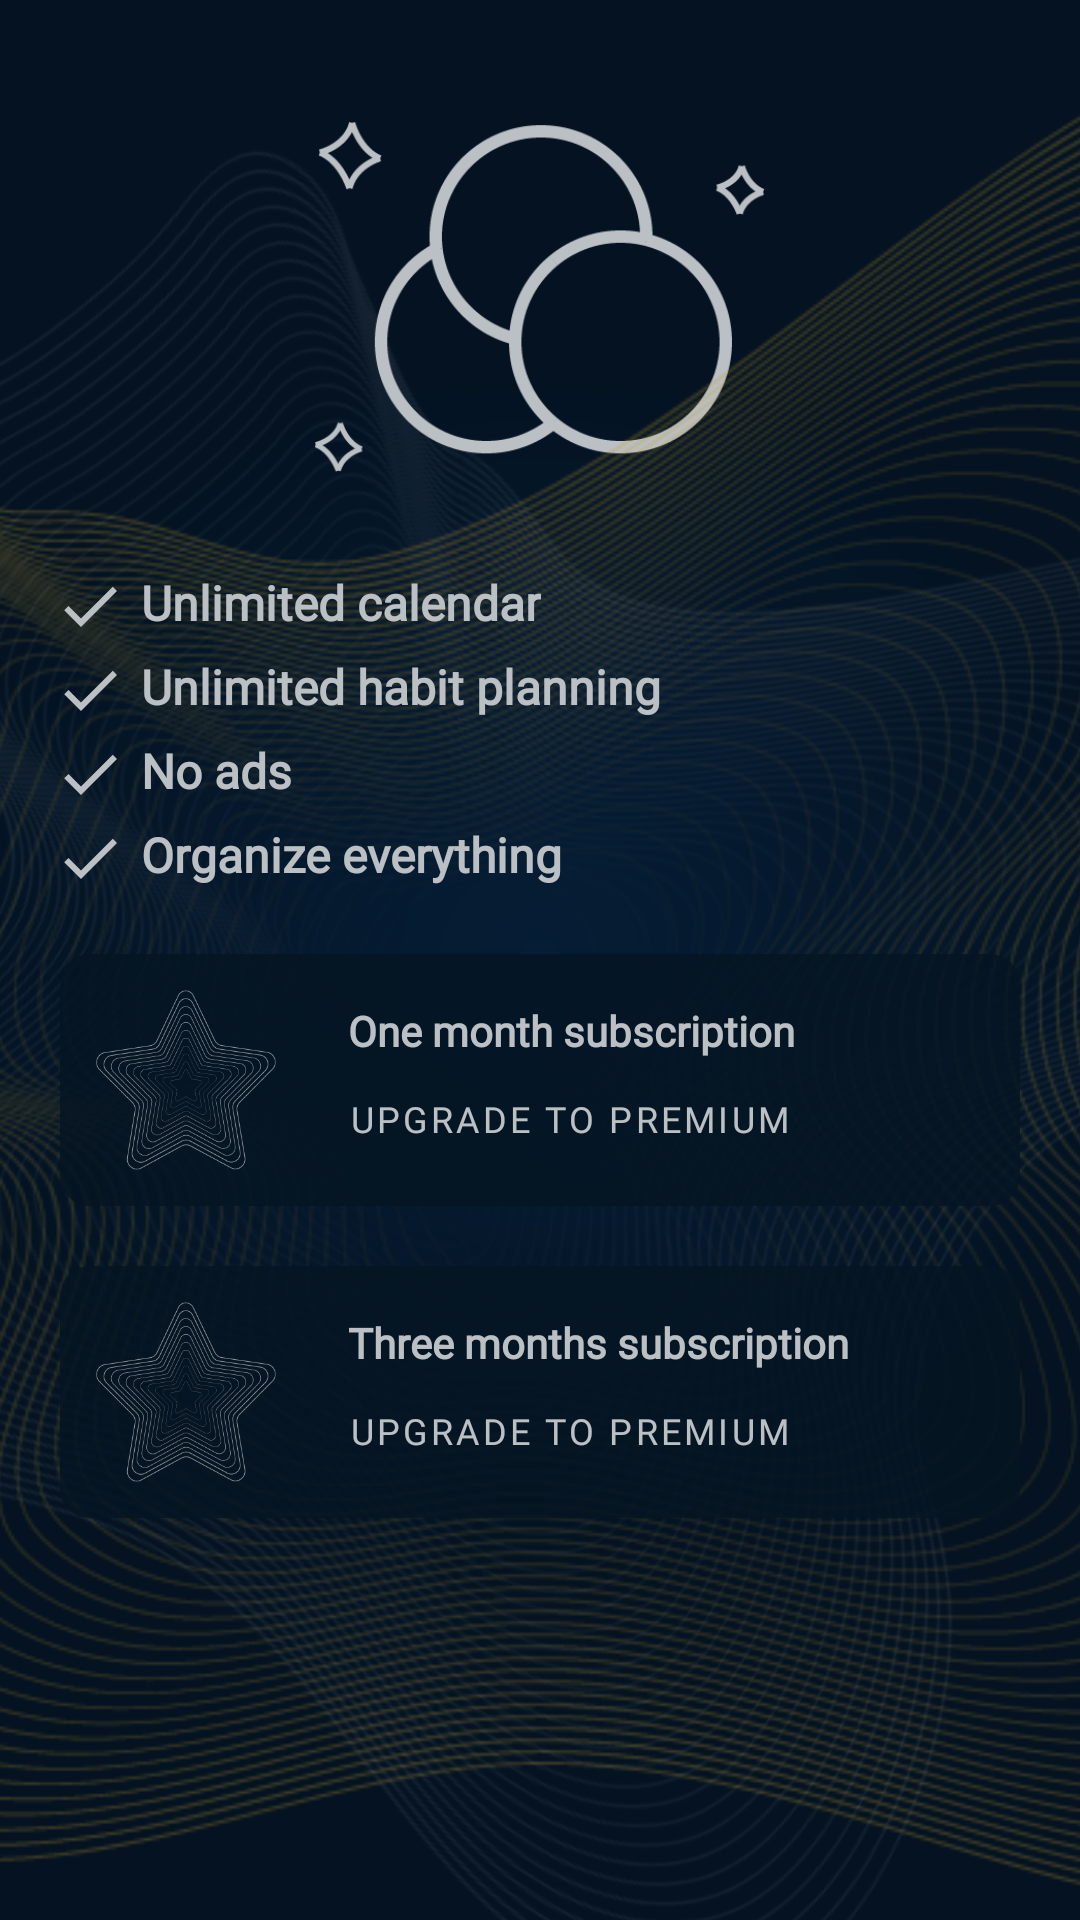

Where to tap for icons on this 1080w x 1920h app screen, as point (x, y):
star: point (186, 1080), point (186, 1392)
